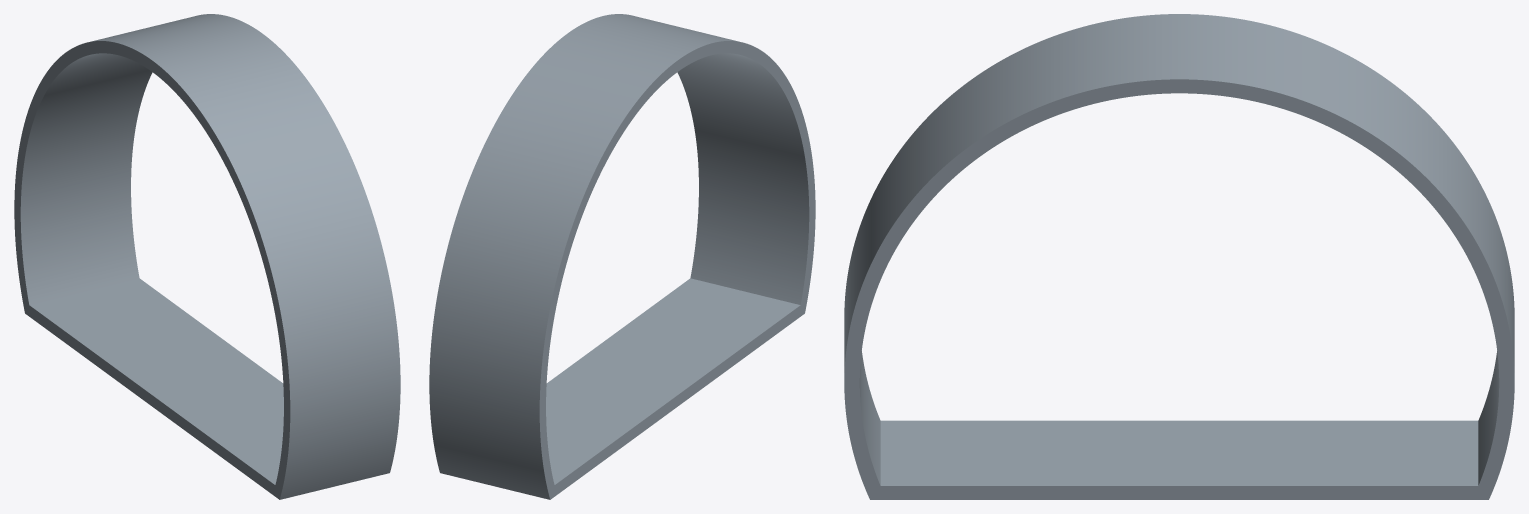
The model's file is gate.dae.
The picture shows the model from 3 angles, left to right: view 1: azimuth 30°, elevation 25°; view 2: azimuth 150°, elevation 25°; view 3: azimuth 270°, elevation 25°; orthographic projection. The views are drawn at different scales.
Parts seen in each view (by area): view 1: 5b4cd94c6612950fb56c38fe; view 2: 5b4cd94c6612950fb56c38fe; view 3: 5b4cd94c6612950fb56c38fe.
Part boxes in pixels (x1,y1,x2,y2): 5b4cd94c6612950fb56c38fe: (14, 14, 400, 499); 5b4cd94c6612950fb56c38fe: (429, 14, 815, 499); 5b4cd94c6612950fb56c38fe: (844, 14, 1514, 499).
Size of the model in its own units: 0.5 by 2.17 by 1.5.
